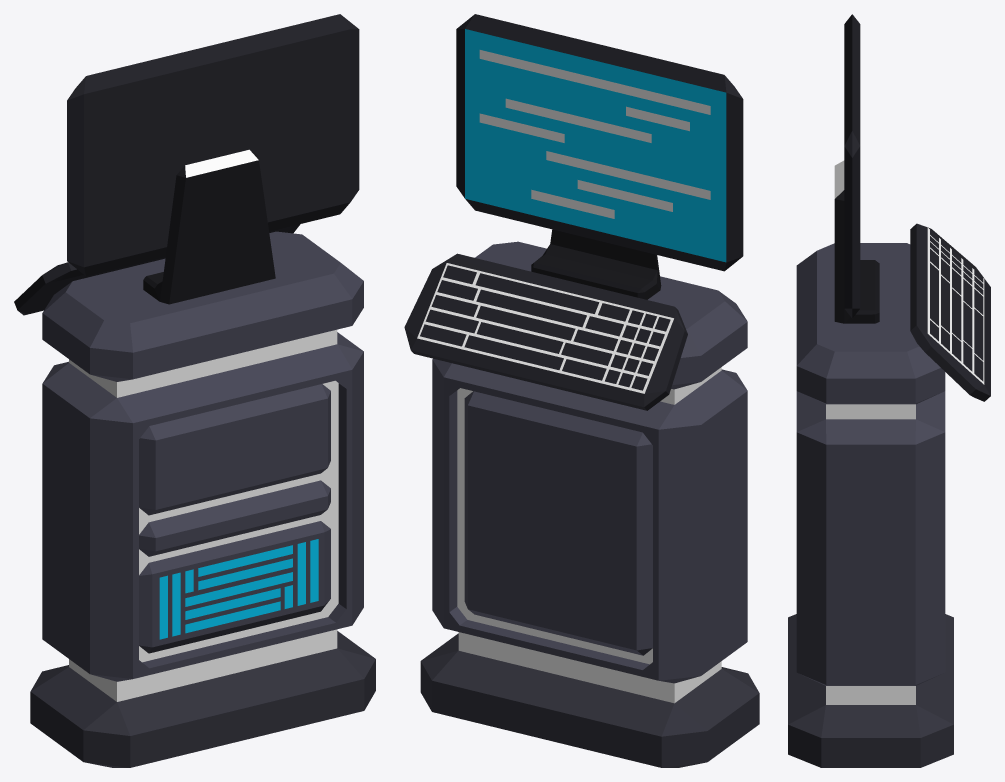
File: Standing Computer Desk 01.fbx
3 views of the same model, side by side, from view 1: azimuth 30°, elevation 25°; view 2: azimuth 150°, elevation 25°; view 3: azimuth 270°, elevation 25° (orthographic). The views are drawn at different scales.
Visible parts, largest first — view 1: Standing_Computer_Desk_01; view 2: Standing_Computer_Desk_01; view 3: Standing_Computer_Desk_01.
Boxes of the visible parts, box(x1,y1,x2,y2) form: Standing_Computer_Desk_01: box(14, 14, 375, 767); Standing_Computer_Desk_01: box(404, 14, 759, 767); Standing_Computer_Desk_01: box(788, 14, 990, 767).
Bounding box in the file's own units: 85.39 × 190 × 54.6.
